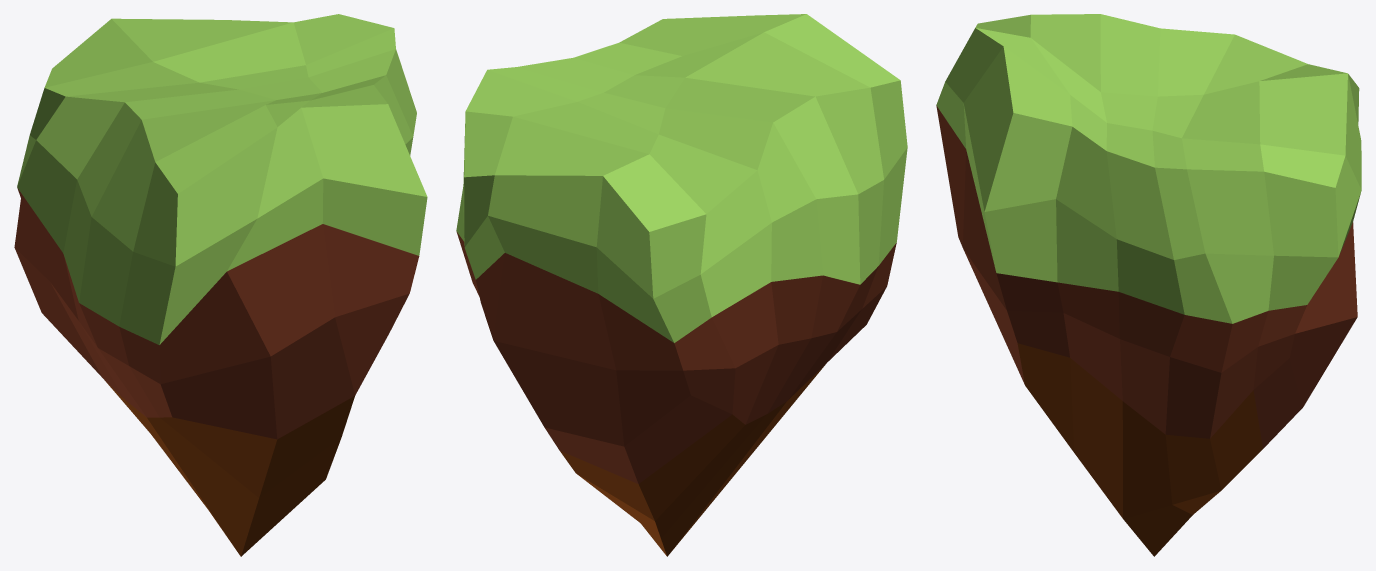
Rendered from platform.fbx.
The picture shows the model from 3 angles, left to right: view 1: azimuth 30°, elevation 25°; view 2: azimuth 150°, elevation 25°; view 3: azimuth 270°, elevation 25°; orthographic projection. The views are drawn at different scales.
Visible parts, largest first — view 1: platform; view 2: platform; view 3: platform.
Boxes of the visible parts, x1=… form: platform: x1=14, y1=14, x2=427, y2=556; platform: x1=456, y1=14, x2=907, y2=556; platform: x1=936, y1=14, x2=1361, y2=556.
Bounding box in the file's own units: 3.07 × 4.07 × 3.12.
